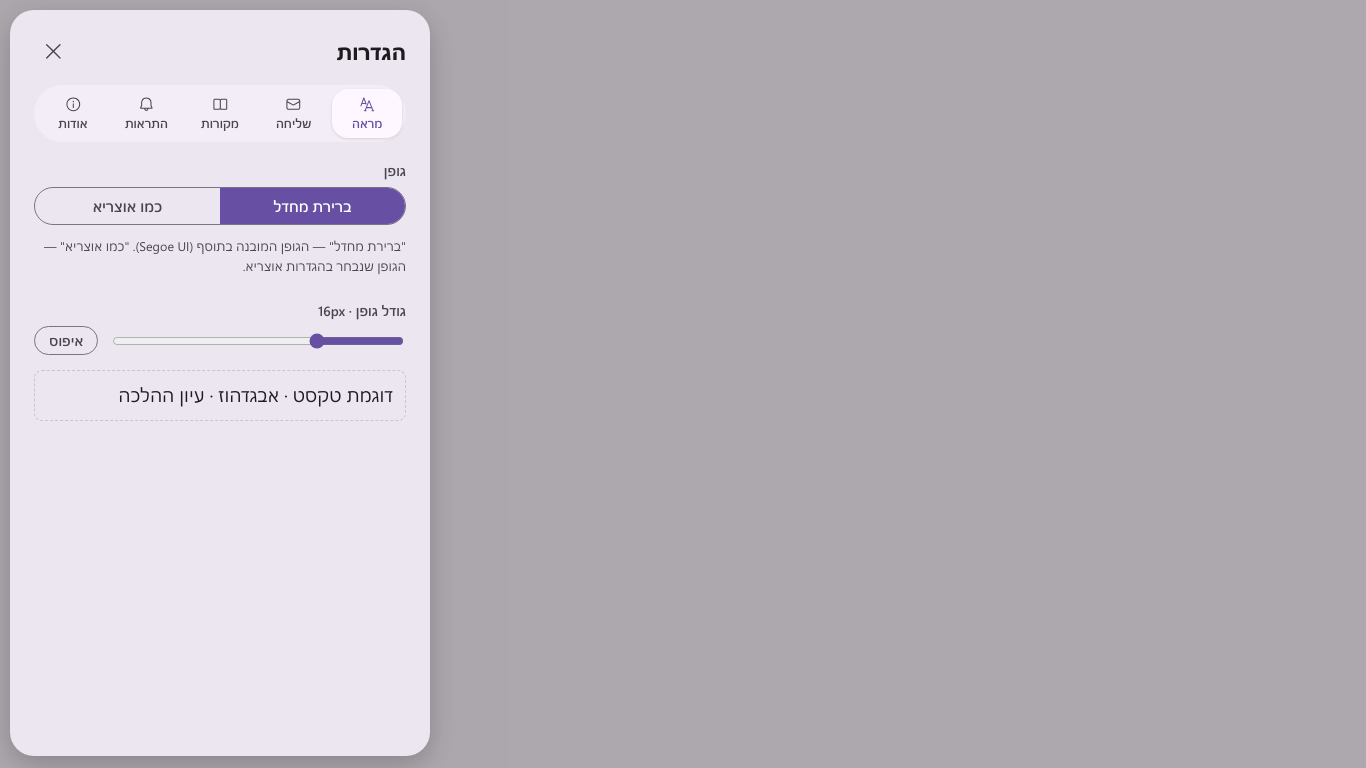
it: כרטיסיית שליחה › מציגה את כתובת היעד הנוכחית
Click the button "שליחה" at (294, 114), box [259,89,328,138]
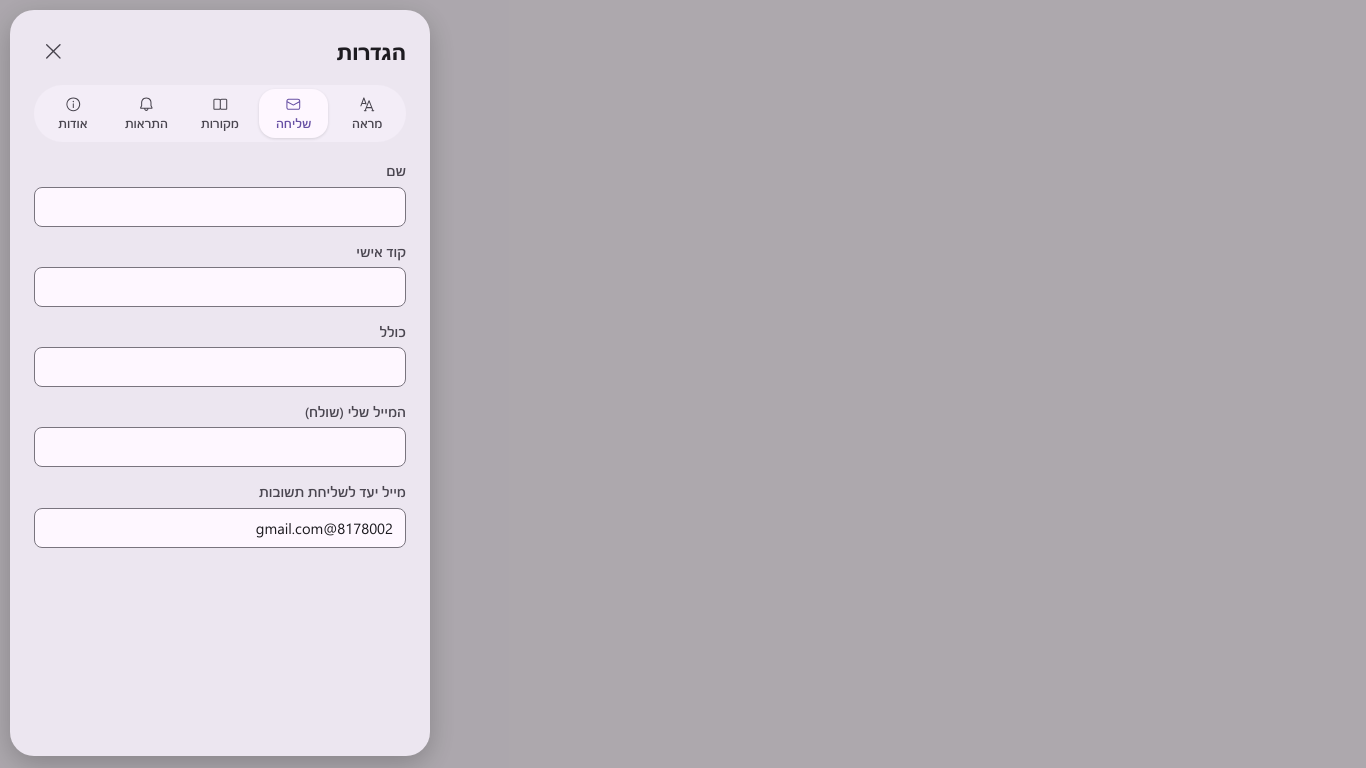
Now the field showing "8178002@gmail.com" below "מייל יעד לשליחת תשובות" is shown, box [34,508,406,548]
